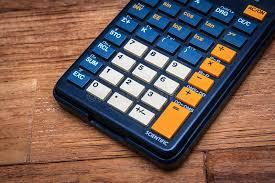Calculator: (47, 0, 275, 175)
